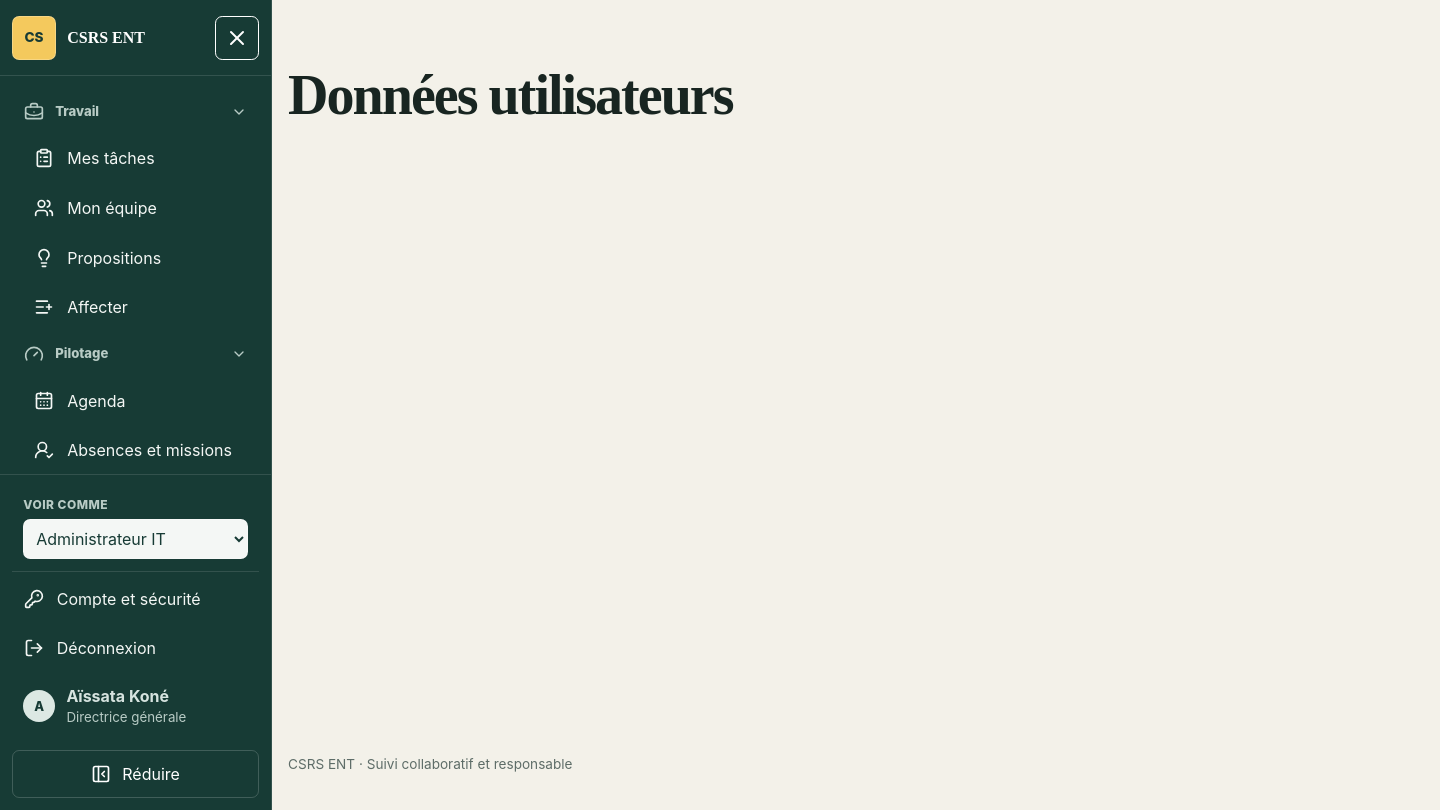
Test case: permet à l'administrateur d'activer une vue de rôle auditée
This screenshot has width=1440, height=810.
Expected: the heading "Données utilisateurs" is shown, [288,64,733,126]
Select "Ressources humaines" in the dropdown named "Rôle actif" at x=136, y=540, box [23,520,248,560]
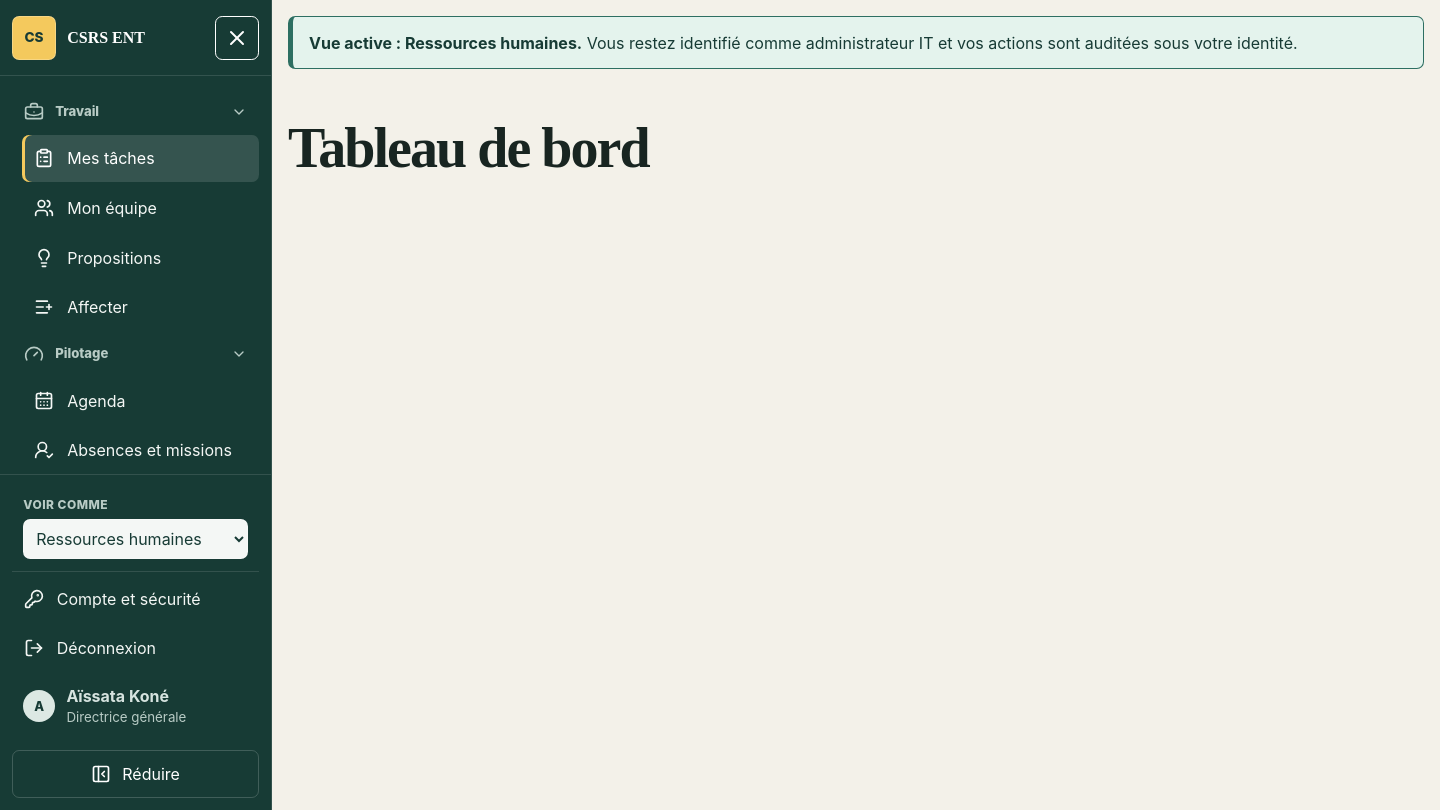
Expected: the text "Vue active : Ressources humaines." is shown, [309,33,582,53]
Expected: the heading "Tableau de bord" is shown, [288,117,649,179]
Expected: the heading "Données utilisateurs" is gone
